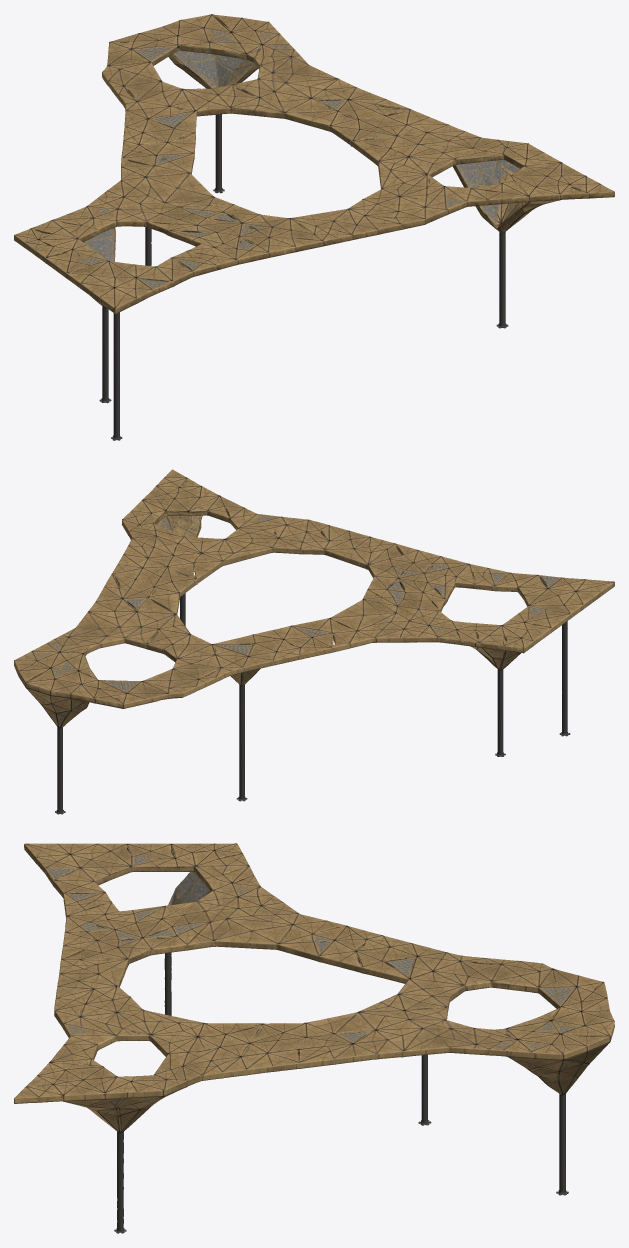
File: canopypav.glb
3 views of the same model, one above another, from view 1: azimuth 30°, elevation 25°; view 2: azimuth 150°, elevation 25°; view 3: azimuth 270°, elevation 25° (orthographic). The views are drawn at different scales.
Visible parts, largest first — view 1: mesh_node; view 2: mesh_node; view 3: mesh_node.
Boxes of the visible parts, x1=… form: mesh_node: x1=14, y1=14, x2=614, y2=440; mesh_node: x1=14, y1=469, x2=614, y2=814; mesh_node: x1=14, y1=843, x2=614, y2=1233.
Bounding box in the file's own units: 1.9 × 0.5767 × 1.9.
1 material, 1 textured.
